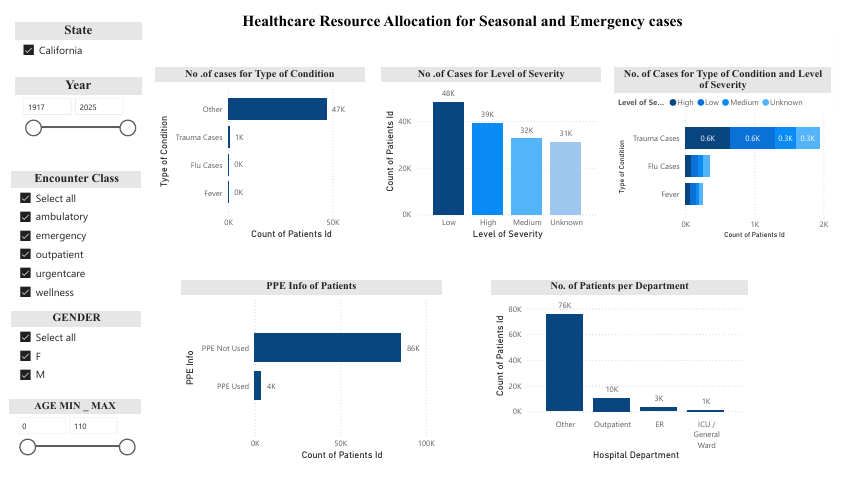

The page's visual inventory and layout, read from the dashboard file:
{"tool":"powerbi","page":{"name":"Additional resources and  Severity Info","canvas":[1280,720],"ordinal":1},"visuals":[{"type":"columnChart","title":"No .of Cases for Level of Severity ","fields":{"Category":["encounters.Level of Severity "],"Y":["CountNonNull(conditions.Patients Id)"]},"box":[575.2,90.3,338.7,269.7],"z":0},{"type":"slicer","title":"State","fields":{"Values":["patients.STATE"]},"box":[10,20,195,70],"z":1000},{"type":"slicer","title":"Year","fields":{"Values":["encounters.Year"]},"box":[10,105,195,128.3],"z":2000},{"type":"slicer","title":"Encounter Class ","fields":{"Values":["encounters.ENCOUNTERCLASS"]},"box":[5,250,200,208.3],"z":3000},{"type":"slicer","title":"GENDER","fields":{"Values":["patients.GENDER"]},"box":[5,466.7,200,128.3],"z":4000},{"type":"slicer","title":"AGE MIN _ MAX","fields":{"Values":["patients.AGE"]},"box":[1.1,603.3,203.3,97.8],"z":5000},{"type":"textbox","box":[266,0,873.7,41.5],"z":7000},{"type":"barChart","title":"No. of Cases for Type of Condition and Level of Severity ","fields":{"Category":["conditions.Type of Condition"],"Y":["CountNonNull(conditions.Patients Id)"],"Series":["encounters.Level of Severity "]},"box":[935.2,90.3,333.4,268.3],"z":9000},{"type":"barChart","title":"No .of cases for Type of Condition","fields":{"Category":["conditions.Type of Condition"],"Y":["CountNonNull(conditions.Patients Id)"]},"box":[225.8,90.3,322.8,269.7],"z":10000},{"type":"barChart","title":"PPE Info of Patients ","fields":{"Y":["CountNonNull(encounters.Patients Id)"],"Category":["encounters.PPE Info"]},"box":[265.7,418.5,402.5,283],"z":11000},{"type":"columnChart","title":"No. of Patients per Department","fields":{"Category":["encounters.Hospital Department"],"Y":["CountNonNull(encounters.Patients Id)"]},"box":[745.2,418.5,394.5,283],"z":12000}]}

Visuals, with their boxes in screenshot pixels (x1, y1, x2, y2), scaled from the page's 1280x720 canvas onto the 849x480 screenshot:
"No .of Cases for Level of Severity " columnChart: [382, 60, 606, 240]
"State" slicer: [7, 13, 136, 60]
"Year" slicer: [7, 70, 136, 156]
"Encounter Class " slicer: [3, 167, 136, 306]
"GENDER" slicer: [3, 311, 136, 397]
"AGE MIN _ MAX" slicer: [1, 402, 136, 467]
textbox: [176, 0, 756, 28]
"No. of Cases for Type of Condition and Level of Severity " barChart: [620, 60, 841, 239]
"No .of cases for Type of Condition" barChart: [150, 60, 364, 240]
"PPE Info of Patients " barChart: [176, 279, 443, 468]
"No. of Patients per Department" columnChart: [494, 279, 756, 468]
